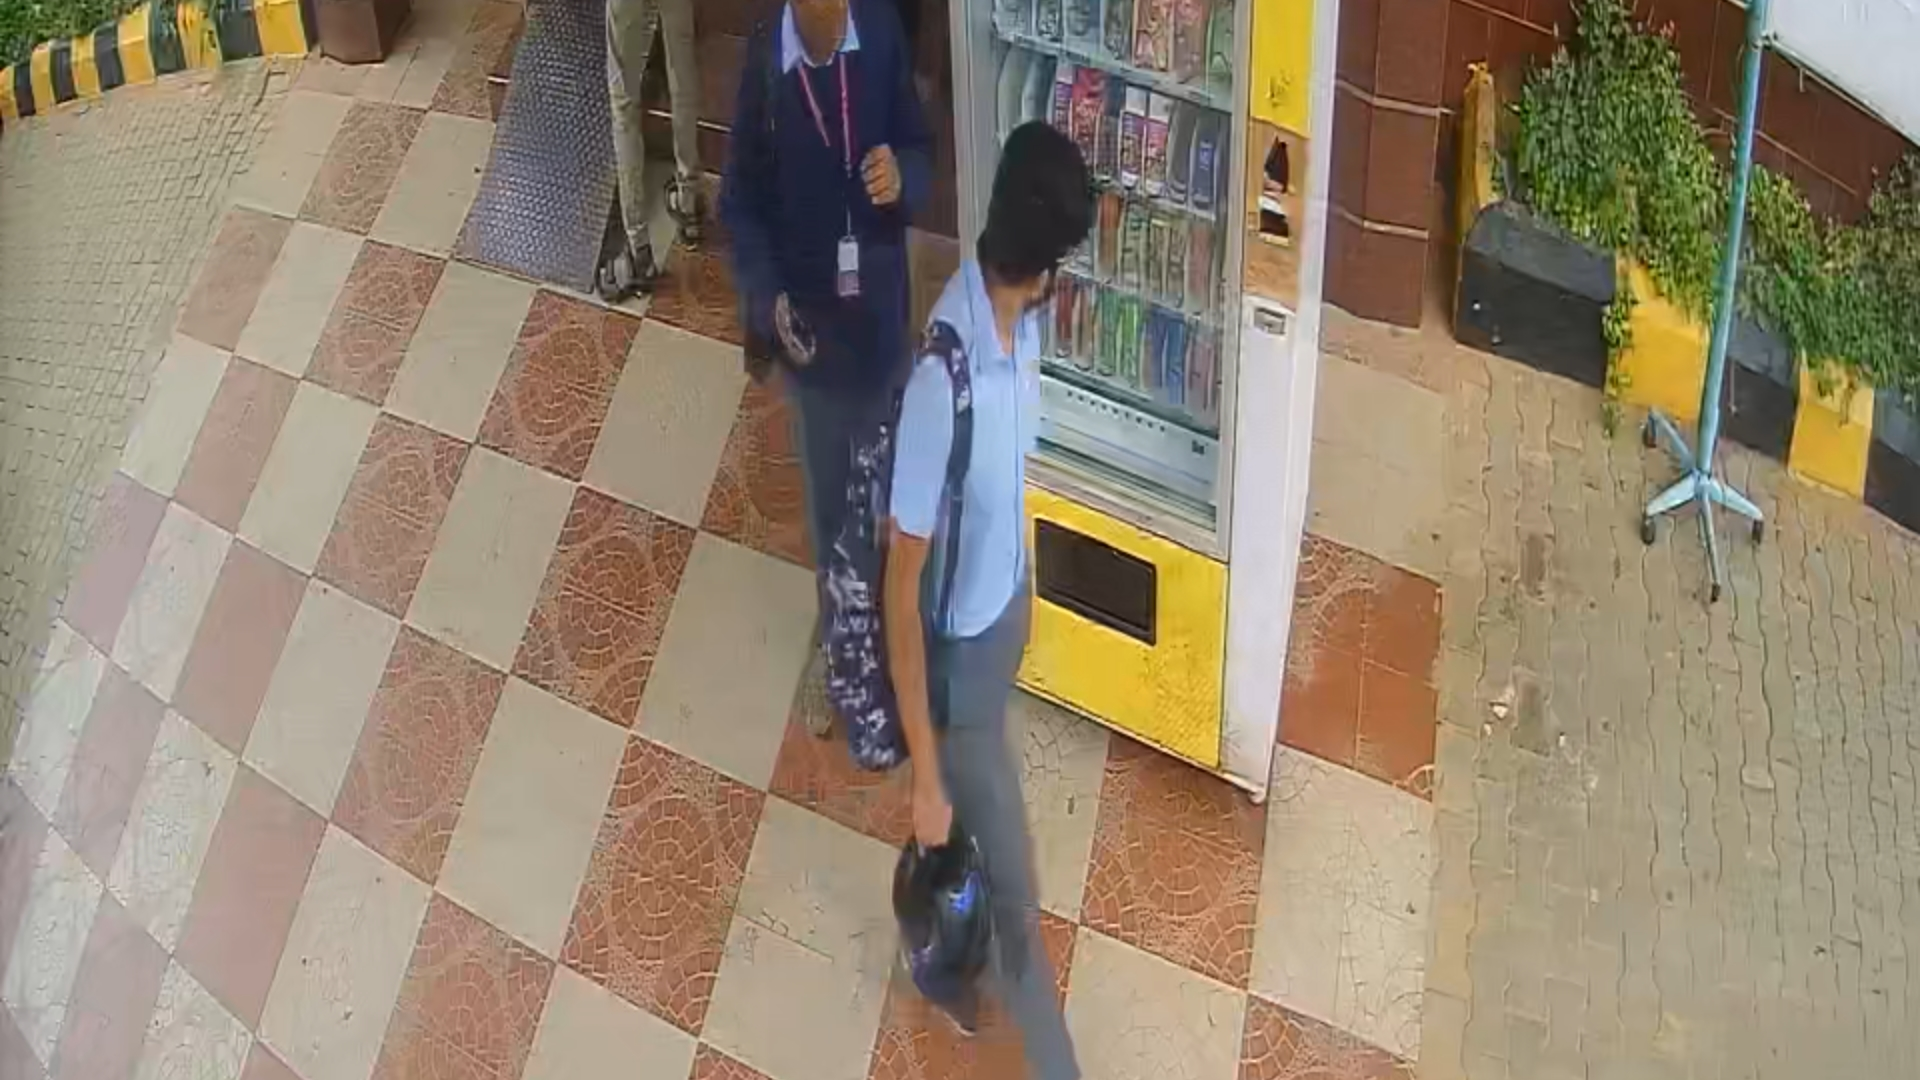intruder: (901, 131, 1081, 1080)
